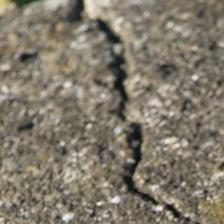Crack: (96, 18, 192, 224)
